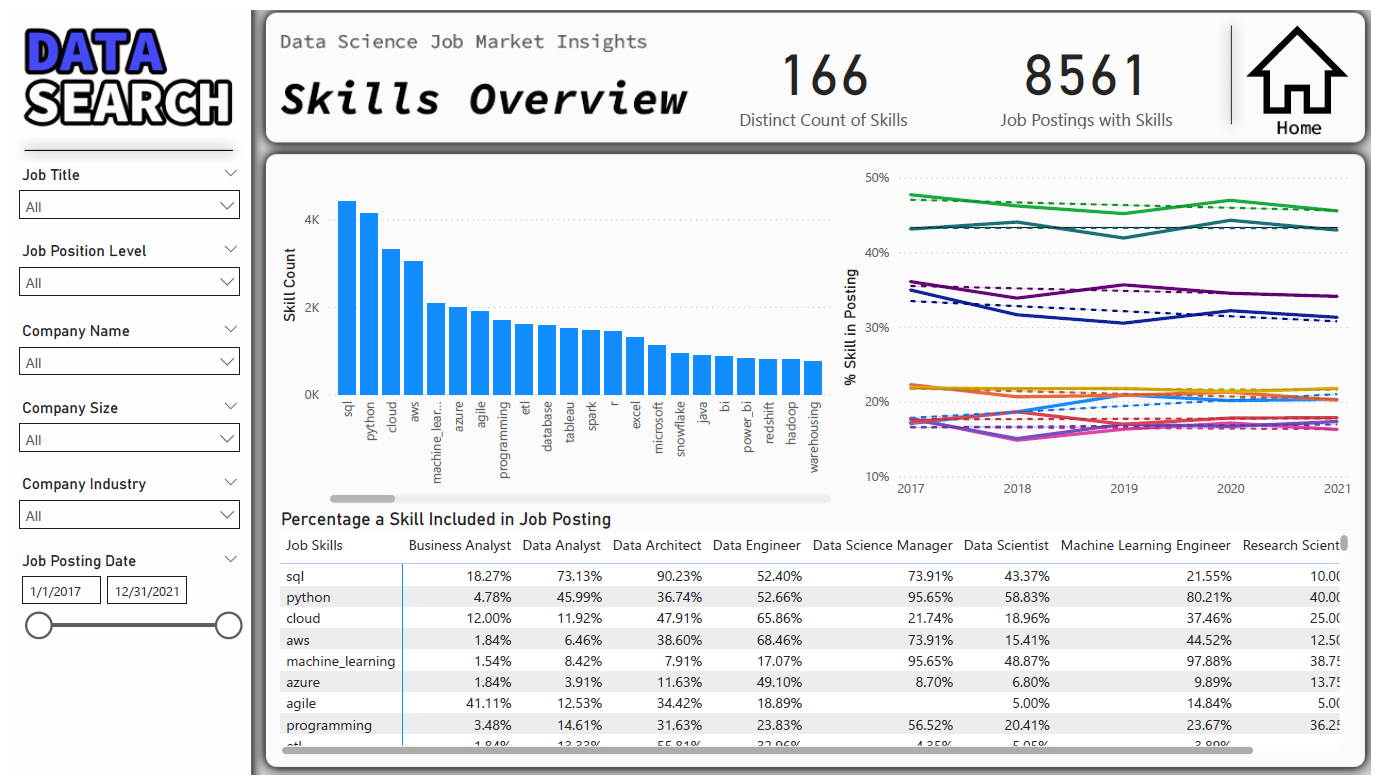

The dashboard page shown, as its layout file describes it:
{"tool":"powerbi","page":{"name":"Skills","canvas":[1280,720],"ordinal":2},"visuals":[{"type":"slicer","fields":{"Values":["Job Postings.Job Posting Date"]},"box":[0,503.8,227.6,215.9],"z":0},{"type":"slicer","fields":{"Values":["Job Postings.Company Industry"]},"box":[0,431.9,227.6,72],"z":1000},{"type":"slicer","fields":{"Values":["Job Postings.Company Size"]},"box":[0,359.9,227.6,72],"z":2000},{"type":"slicer","fields":{"Values":["Job Postings.Company Name"]},"box":[0,287.9,227.6,72],"z":3000},{"type":"slicer","fields":{"Values":["Job Postings.Job Position Level"]},"box":[0,213,227.6,72],"z":4000},{"type":"slicer","fields":{"Values":["Job Postings.Job Title"]},"box":[0,141,227.6,72],"z":5000},{"type":"columnChart","fields":{"Category":["Job Skills.Job Skills"],"Y":["CountNonNull(Job Skills.Job Skills)"]},"box":[250.9,141,527.2,326.8],"z":6000},{"type":"lineChart","fields":{"Category":["Job Postings.Job Posting Date.Variation.Date Hierarchy.Year","Job Postings.Job Posting Date.Variation.Date Hierarchy.Quarter","Job Postings.Job Posting Date.Variation.Date Hierarchy.Month","Job Postings.Job Posting Date.Variation.Date Hierarchy.Day"],"Y":["_Measures.% Skill in Posting"],"Series":["Job Skills.Job Skills"]},"box":[778.1,143,489.2,324.9],"z":7000},{"type":"pivotTable","title":"Percentage a Skill Included in Job Posting","fields":{"Rows":["Job Skills.Job Skills"],"Values":["_Measures.% Skill in Posting"],"Columns":["Job Postings.Job Title"]},"box":[250.9,467.8,1014.5,237.3],"z":8000},{"type":"card","fields":{"Values":["Count(Job Skills.Job Posting ID)"]},"box":[888,11.7,250.9,104.1],"z":9000},{"type":"card","fields":{"Values":["Count(Job Skills.Job Skills)"]},"box":[650.7,9.7,230.5,108],"z":10000},{"type":"image","box":[1159.4,0,106,111.9],"z":11000}]}

Visuals, with their boxes on the page's 1280x720 design canvas (x1, y1, x2, y2). These are canvas units, not pixel positions in the 1380x783 screenshot, which may show the page scaled, cropped or inside an application window:
slicer - Job Postings.Job Posting Date: 0 504 228 720
slicer - Job Postings.Company Industry: 0 432 228 504
slicer - Job Postings.Company Size: 0 360 228 432
slicer - Job Postings.Company Name: 0 288 228 360
slicer - Job Postings.Job Position Level: 0 213 228 285
slicer - Job Postings.Job Title: 0 141 228 213
columnChart - Job Skills.Job Skills x CountNonNull(Job Skills.Job Skills): 251 141 778 468
lineChart - Job Postings.Job Posting Date.Variation.Date Hierarchy.Year x Job Postings.Job Posting Date.Variation.Date Hierarchy.Quarter: 778 143 1267 468
"Percentage a Skill Included in Job Posting" pivotTable: 251 468 1265 705
card - Count(Job Skills.Job Posting ID): 888 12 1139 116
card - Count(Job Skills.Job Skills): 651 10 881 118
image: 1159 0 1265 112
